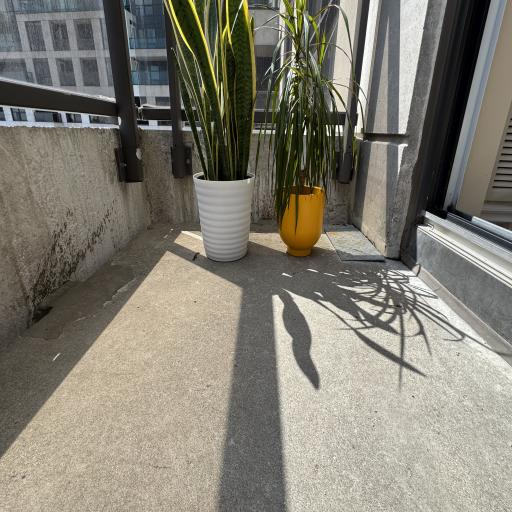Plant Pot: (192, 167, 255, 261), (276, 182, 324, 257)
